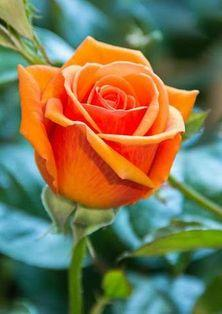Rose: (8, 31, 202, 212)
